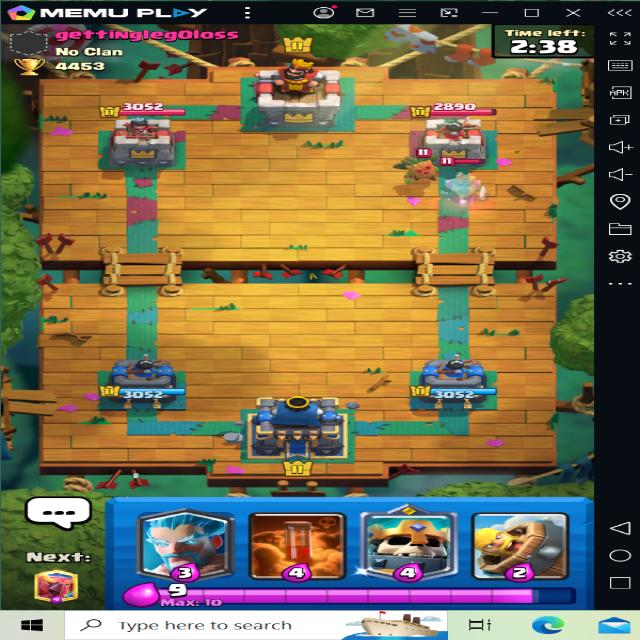dart-goblin: (391, 147, 446, 182)
royal-ghost: (436, 156, 522, 208)
